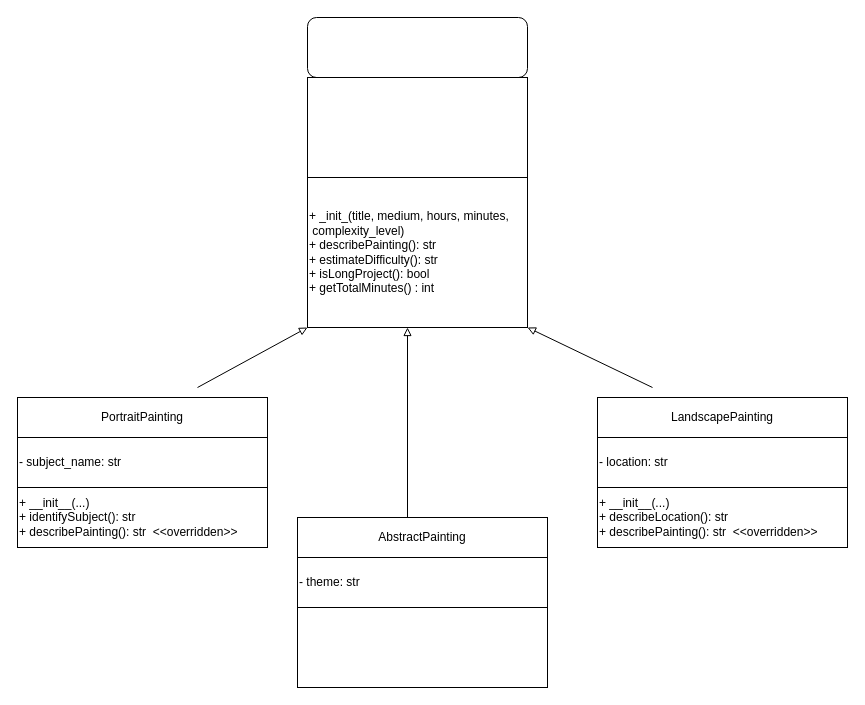
This 865x705 diagram has some shape labels left out. The shapes that lost their labels are listed below. From the top down, each one's box as (x1, y1, x2, y2) in pixels, then its label:
(306, 16, 528, 78): Painting
(306, 76, 528, 178): - title: str - medium: str - hours: int - minutes: int - complexity_level: str
(296, 606, 548, 688): + __init__(...) + interpretTheme(): str + describePainting(): str <<overridden>>
